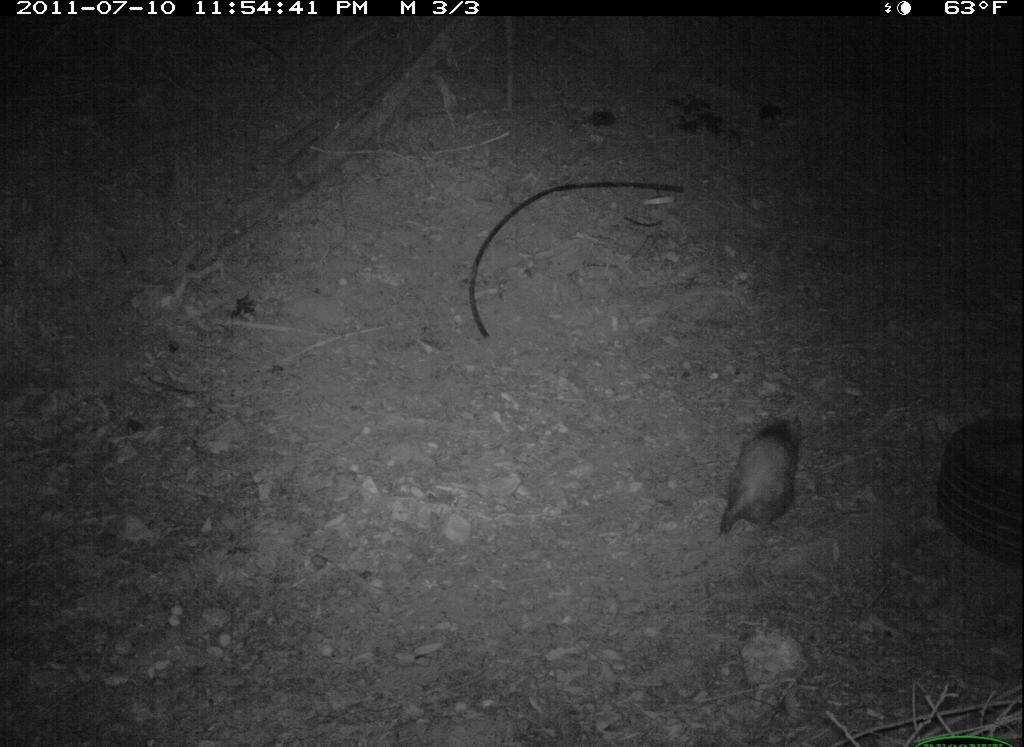opossum: (711, 413, 812, 542)
